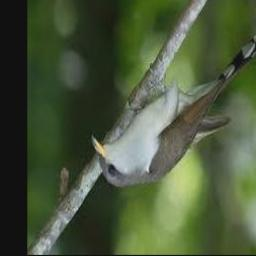Cuckoo: (91, 32, 256, 187)
